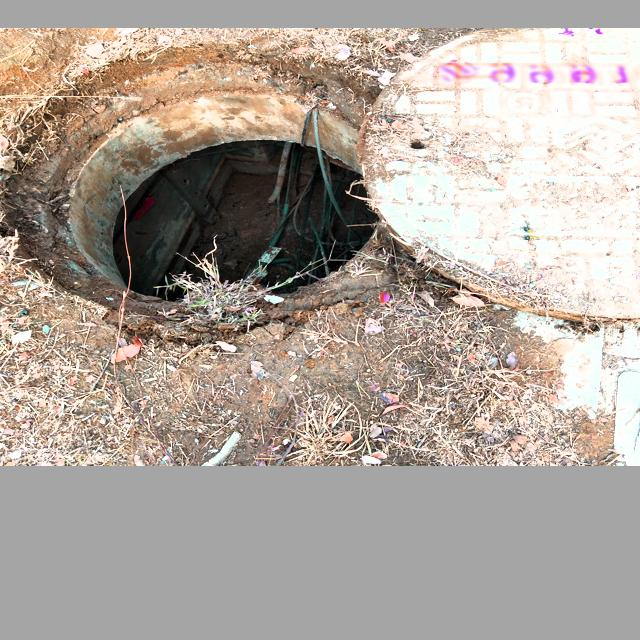uncovered: (6, 36, 640, 334)
